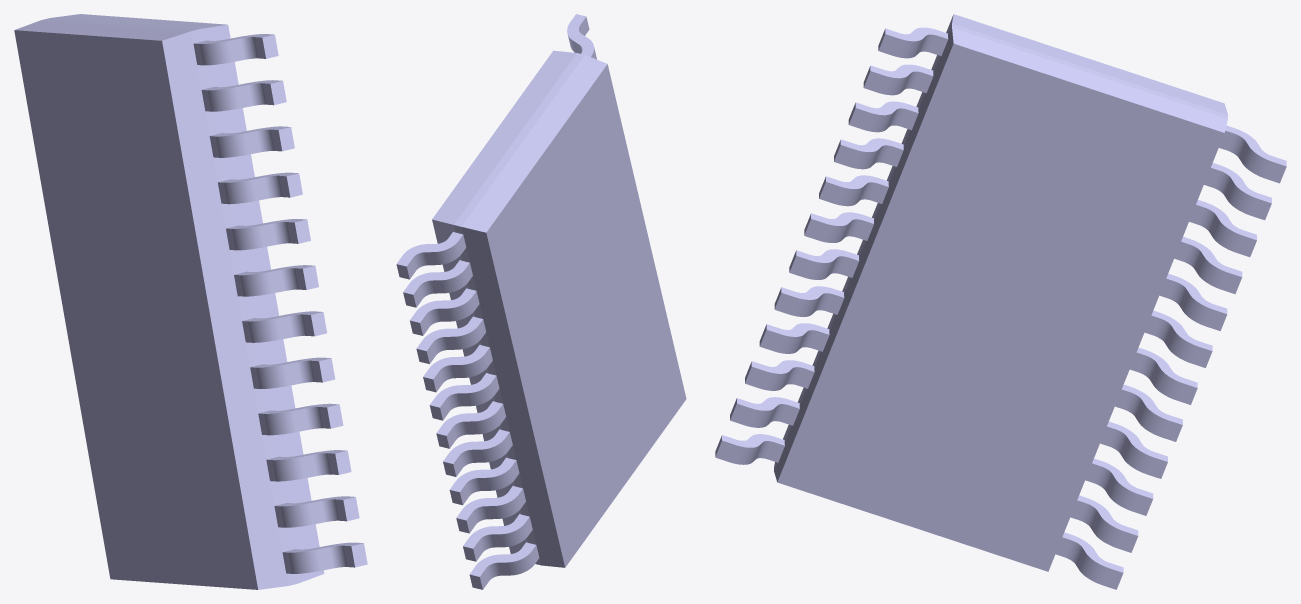
The model's file is EBoxNewAsm_stp_1_IMC413_stp_1_IMC413_15_stp_1_solid1.obj.
3 views of the same model, side by side, from view 1: azimuth 30°, elevation 25°; view 2: azimuth 150°, elevation 25°; view 3: azimuth 270°, elevation 25° (orthographic). The views are drawn at different scales.
Parts seen in each view (by area): view 1: mesh13731, mesh13730, mesh13791, mesh13732, mesh13793, mesh13725, mesh13655, mesh13711, mesh13750, mesh13625, mesh13641, mesh13683 (+6 smaller); view 2: mesh13731, mesh13882, mesh13732, mesh13793, mesh13953, mesh13790, mesh13962, mesh13812, mesh13892, mesh13906, mesh13868, mesh13798 (+7 smaller); view 3: mesh13792, mesh13793, mesh13791, mesh13732, mesh13790.
Boxes of the visible parts, box(x1,y1,x2,y2) form: mesh13731: box(14, 30, 257, 589); mesh13730: box(162, 31, 288, 589); mesh13791: box(201, 24, 324, 583); mesh13732: box(14, 20, 190, 40); mesh13793: box(51, 14, 226, 28); mesh13725: box(223, 179, 256, 204); mesh13655: box(263, 411, 296, 435); mesh13711: box(231, 226, 264, 250); mesh13750: box(215, 133, 248, 157); mesh13625: box(280, 503, 312, 527); mesh13641: box(272, 457, 304, 481); mesh13683: box(247, 318, 280, 342); mesh13731: box(486, 64, 686, 567); mesh13882: box(461, 227, 564, 567); mesh13732: box(461, 55, 607, 232); mesh13793: box(432, 50, 576, 224); mesh13953: box(432, 219, 528, 553); mesh13790: box(454, 53, 584, 226); mesh13962: box(469, 542, 535, 576); mesh13812: box(403, 260, 469, 294); mesh13892: box(436, 401, 502, 435); mesh13906: box(443, 429, 509, 463); mesh13868: box(430, 373, 496, 407); mesh13798: box(397, 232, 462, 266); mesh13792: box(777, 44, 1224, 571); mesh13793: box(952, 28, 1227, 132); mesh13791: box(774, 28, 953, 481); mesh13732: box(952, 14, 1227, 114); mesh13790: box(952, 23, 1227, 118).
Bounding box in the file's own units: 0.0012 × 0.00919 × 0.00856.
